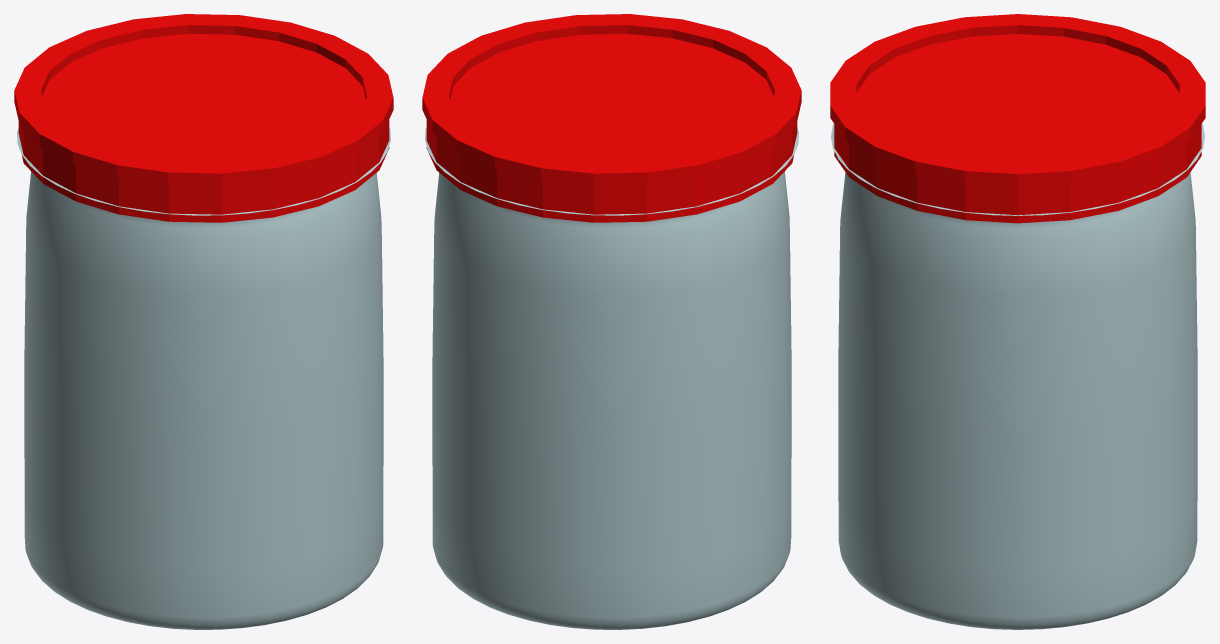
Rendered from 00591681-5c0e-4f4d-9d63-192e37b67ffc.glb.
3 renders of one model, left to right at view 1: azimuth 30°, elevation 25°; view 2: azimuth 150°, elevation 25°; view 3: azimuth 270°, elevation 25°, orthographic.
Parts seen in each view (by area): view 1: Cylinder002, Object002; view 2: Cylinder002, Object002; view 3: Cylinder002, Object002.
Boxes of the visible parts, box(x1,y1,x2,y2) form: Cylinder002: box(17, 127, 390, 629); Object002: box(14, 14, 393, 222); Cylinder002: box(425, 127, 798, 629); Object002: box(422, 14, 801, 222); Cylinder002: box(831, 123, 1204, 629); Object002: box(830, 14, 1205, 223).
Size of the model in its own units: 283393 by 389227 by 280509.
